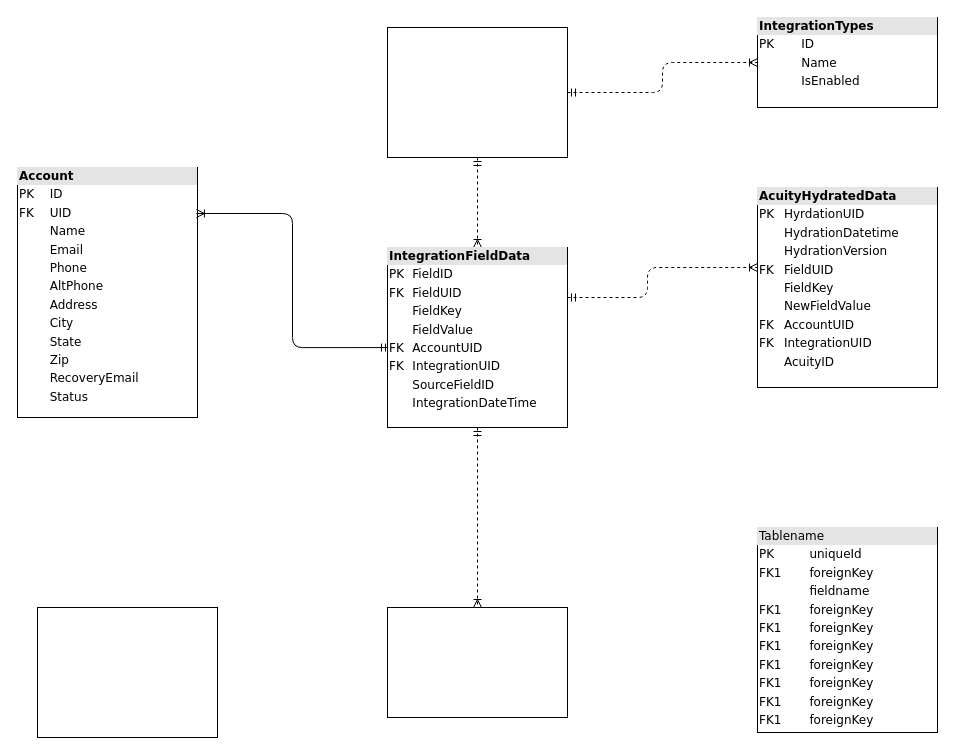
Some shapes in this 955 by 755 pixel diagram are drawn without their labels. The shapes that lost their labels are listed below. From the top down, each one's centre as x and y in pixels, then its label:
At (x=477, y=92): "Integrations PK ID FK typeID FK UID AccountUID CreatiedDatetime".
At (x=127, y=672): "Configuration PK ID FK UID FK AccountUID Integrations fieldname fieldname".
At (x=477, y=662): "Tablename PK uniqueId FK1 foreignKey fieldname fieldname FK1 foreignKey".
